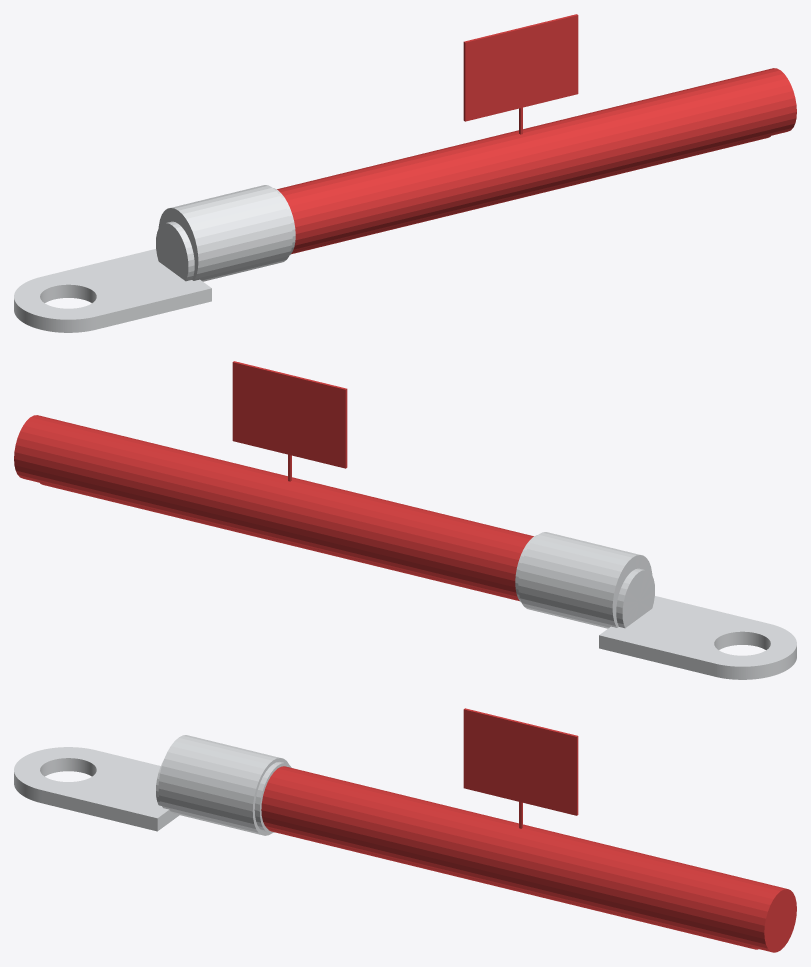
The model's file is factory-cable-end.glb.
3 renders of one model, top to bottom at view 1: azimuth 30°, elevation 25°; view 2: azimuth 150°, elevation 25°; view 3: azimuth 330°, elevation 25°, orthographic.
Visible parts, largest first — view 1: cable_2awg_pos, lug_2awg, flag_pos, lug_4awg, cable_4awg_pos; view 2: cable_2awg_pos, lug_2awg, flag_pos, lug_4awg, cable_4awg_pos; view 3: cable_2awg_pos, lug_2awg, flag_pos, cable_4awg_pos, lug_4awg.
Part boxes in pixels (x1,y1,x2,y2): cable_2awg_pos: (277, 68, 796, 251); lug_2awg: (14, 185, 295, 332); flag_pos: (463, 14, 578, 134); lug_4awg: (41, 221, 194, 302); cable_4awg_pos: (291, 134, 772, 254); cable_2awg_pos: (14, 415, 533, 598); lug_2awg: (515, 532, 796, 679); flag_pos: (232, 361, 347, 481); lug_4awg: (616, 568, 770, 649); cable_4awg_pos: (38, 481, 519, 601); cable_2awg_pos: (261, 766, 796, 952); lug_2awg: (14, 735, 291, 835); flag_pos: (463, 708, 578, 828); cable_4awg_pos: (267, 828, 758, 949); lug_4awg: (40, 759, 163, 805).
Size of the model in its own units: 0.1534 by 0.033 by 0.0191.
